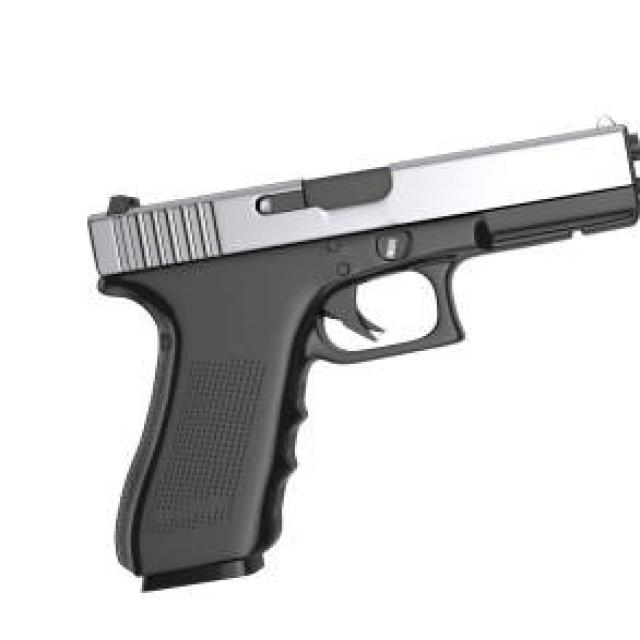pistol: (69, 106, 640, 607)
